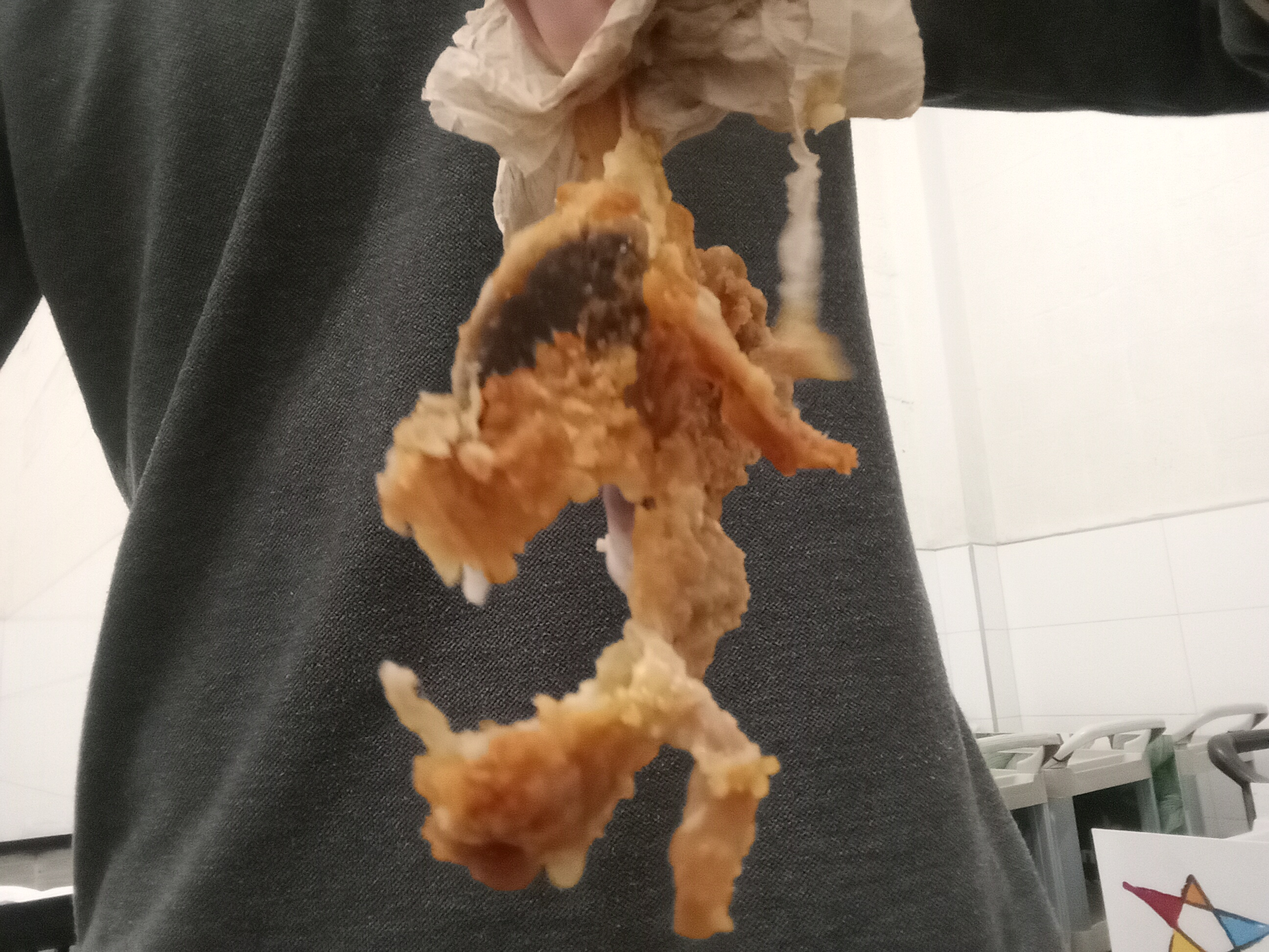Organico: (376, 145, 860, 939)
